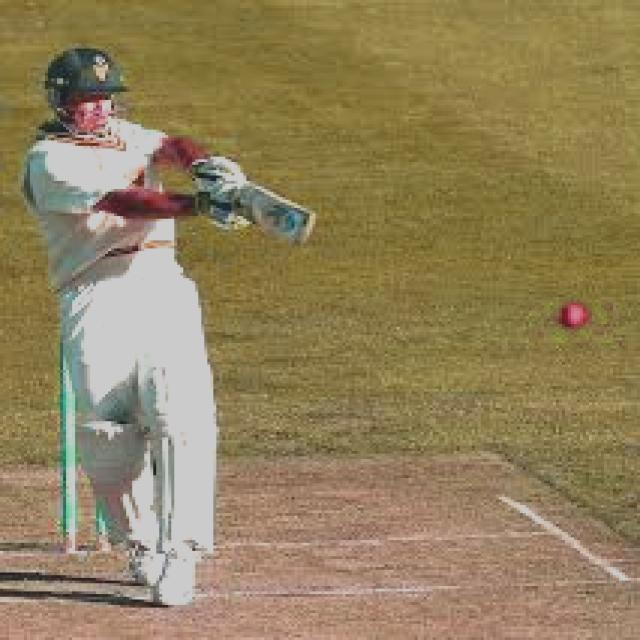toe: (292, 197, 320, 257)
